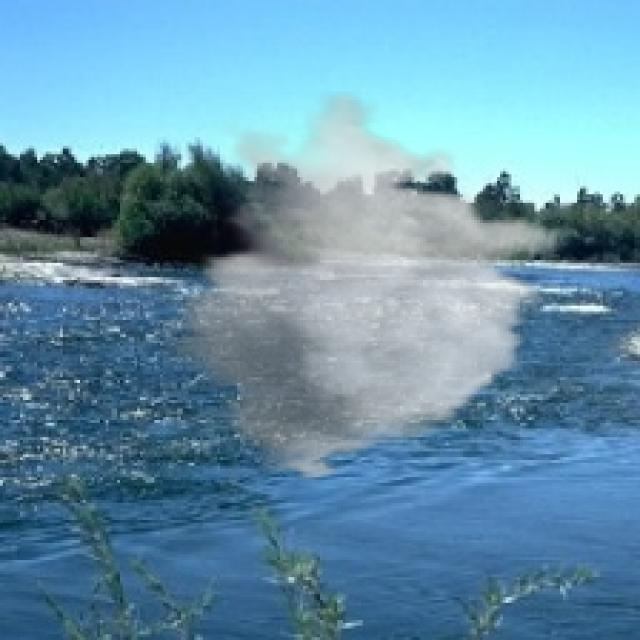Smoke: (157, 91, 572, 486)
